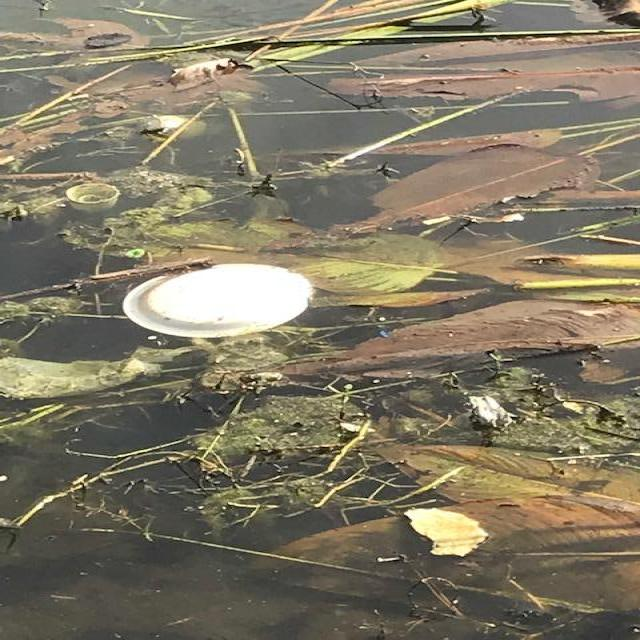litter: (349, 243, 453, 388), (527, 92, 572, 127)
